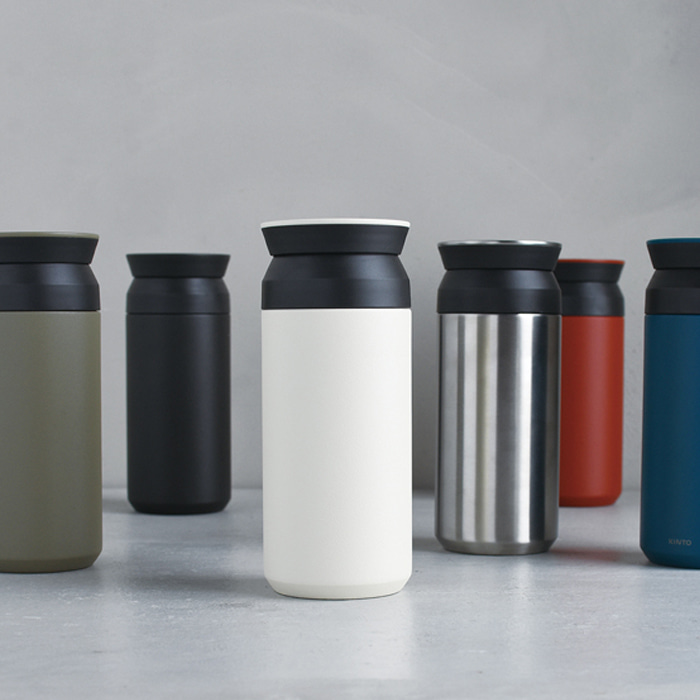Tumbler: (253, 193, 412, 603), (427, 205, 564, 567), (108, 211, 239, 521)
